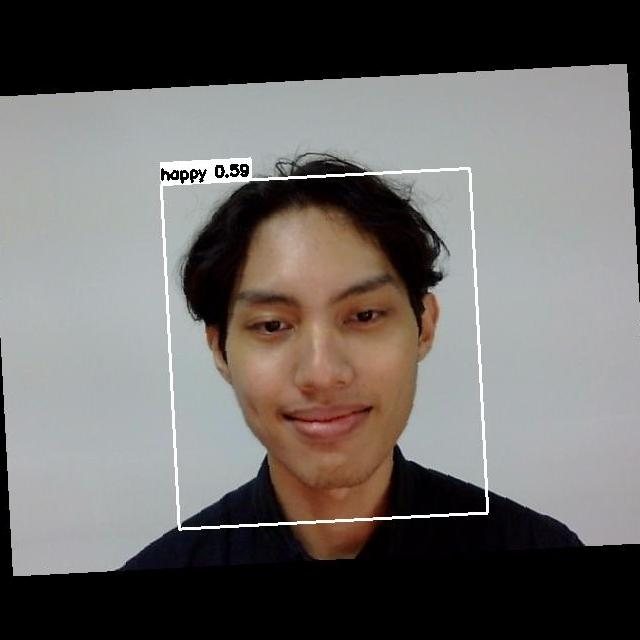Happy: (222, 261, 454, 464)
